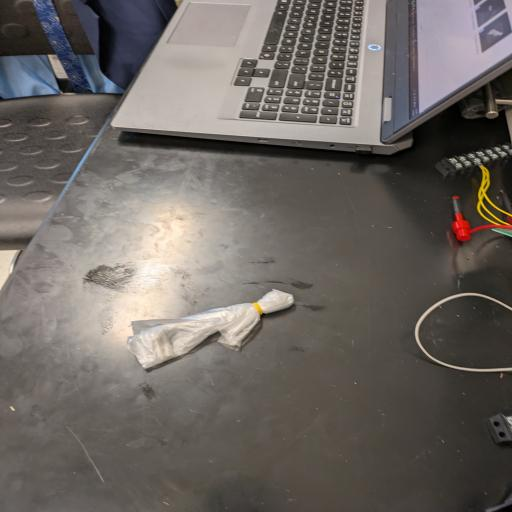rubberband: (129, 288, 298, 369)
